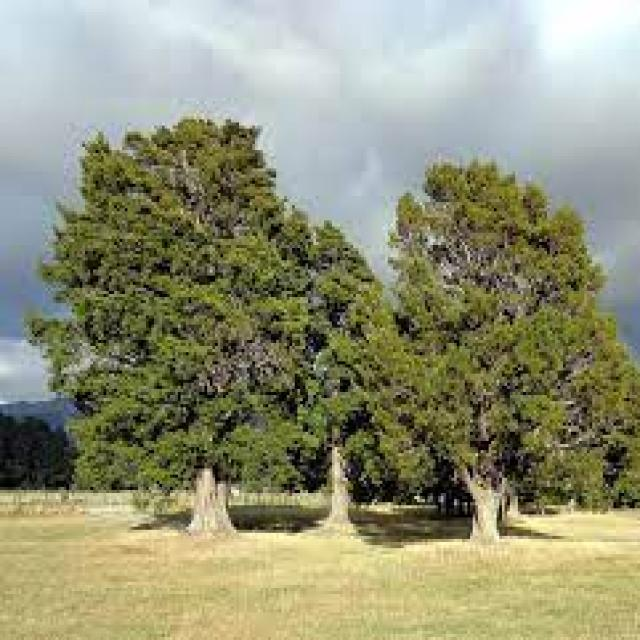Totara: (21, 120, 309, 542), (388, 155, 640, 547), (247, 208, 432, 535)
